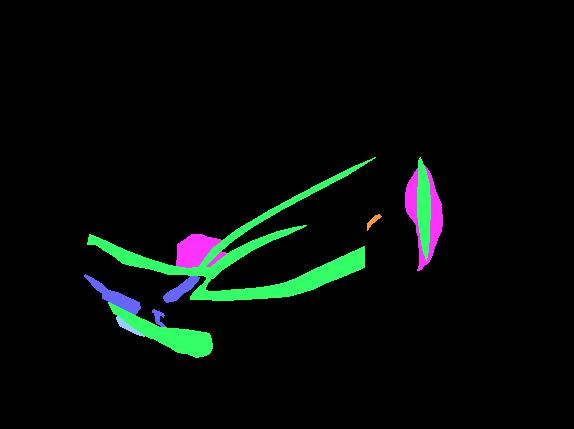Broken part: (197, 157, 375, 268), (87, 234, 364, 300), (108, 302, 212, 357), (206, 225, 306, 278), (417, 157, 430, 260)
Corrosion: (116, 315, 148, 336)
Dent: (405, 162, 442, 270), (176, 234, 223, 271), (199, 251, 227, 270)
Paint chip: (367, 214, 381, 230)
Scratch: (84, 274, 140, 315), (163, 275, 199, 302), (152, 309, 167, 329)
